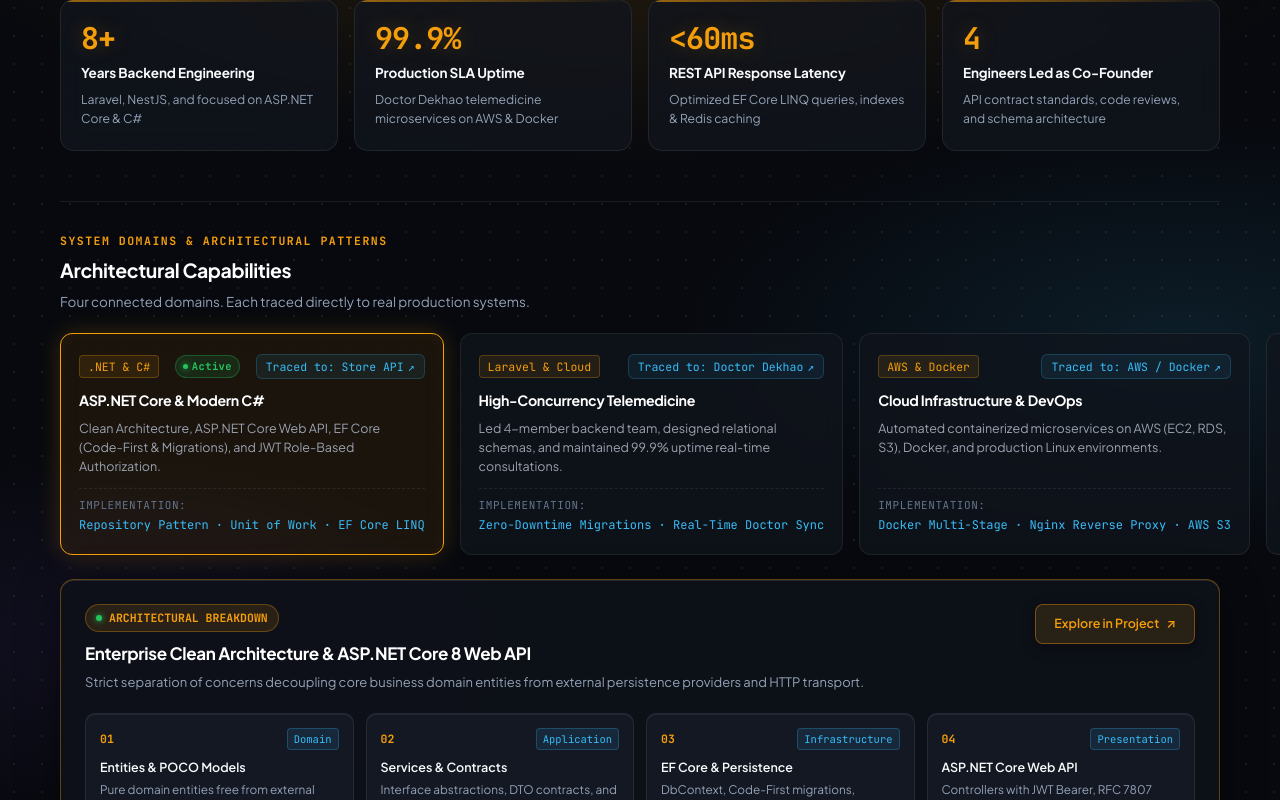
Home Component › switches architectural capability and displays deep inspector breakdown
The image size is (1280, 800).
(page scrolled)
Click the heading "High-Concurrency Telemedicine" at [587, 400], box [479,391,695,409]
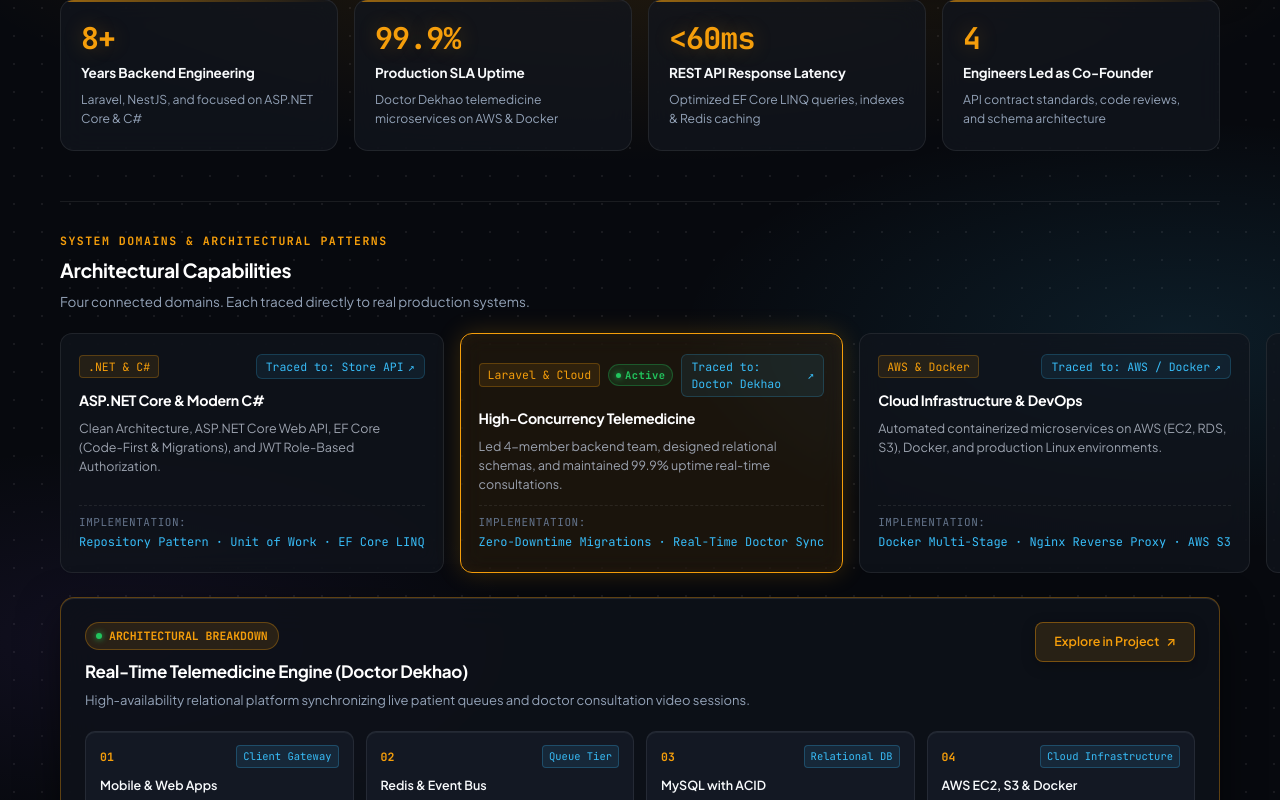
Now the heading "Real-Time Telemedicine Engine (Doctor Dekhao)" is shown, box [85,660,468,682]
